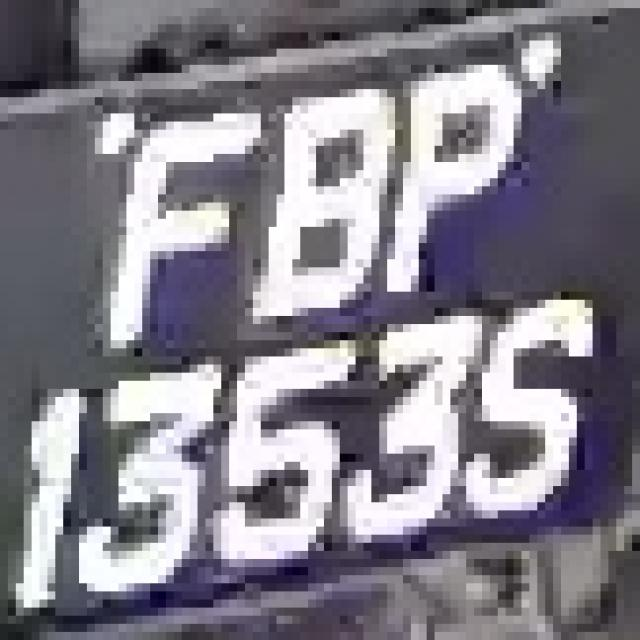1: (16, 356, 71, 640)
3: (87, 324, 221, 624), (324, 300, 474, 551)
5: (198, 340, 316, 575)
B: (261, 65, 387, 324)
F: (103, 98, 253, 356)
P: (387, 65, 537, 292)
S: (466, 284, 585, 526)
